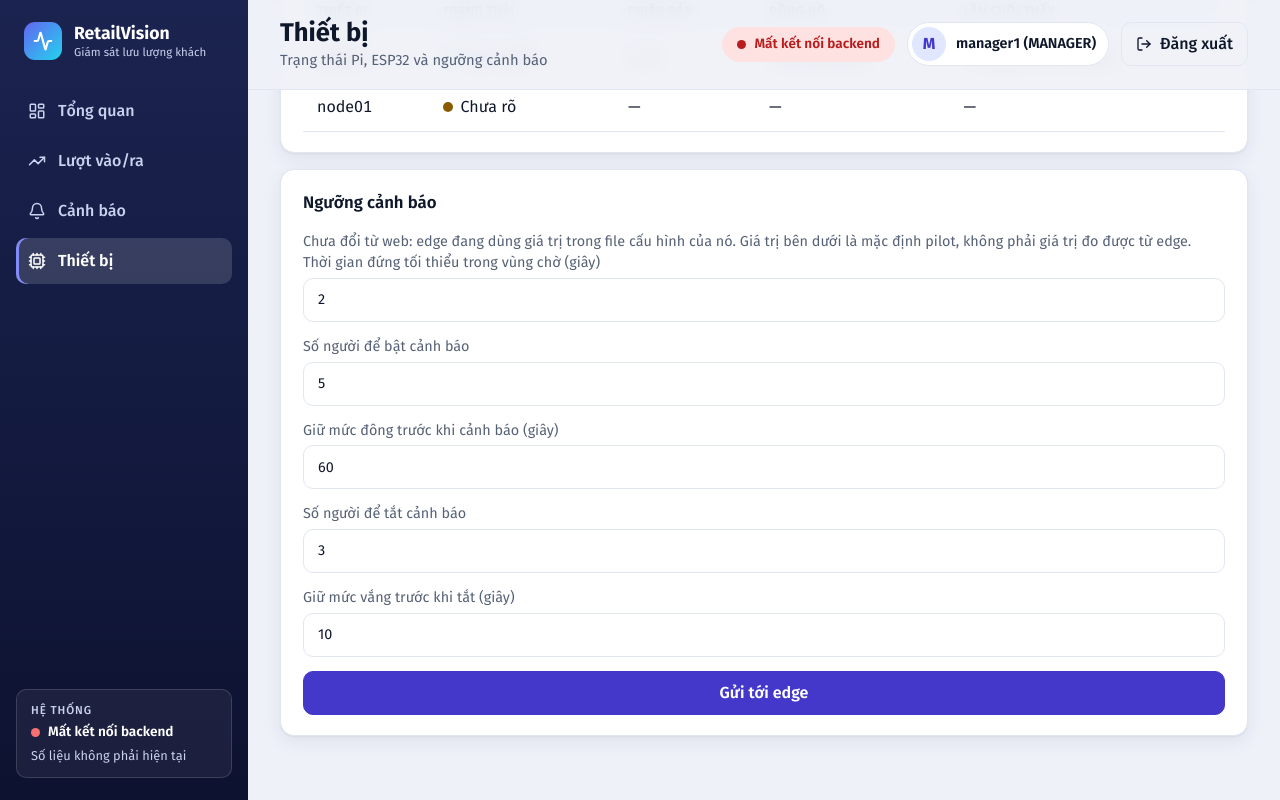
Scenario: trang Thiết bị và đổi ngưỡng › backend từ chối (409): hiện đúng thông báo của backend
(page scrolled)
Expected: the text with test id "settings-source" is shown, top-left (303, 231), bottom-right (1225, 252)
Click the button "Gửi tới edge".
click(764, 692)  # box top-left (303, 670), bottom-right (1225, 714)
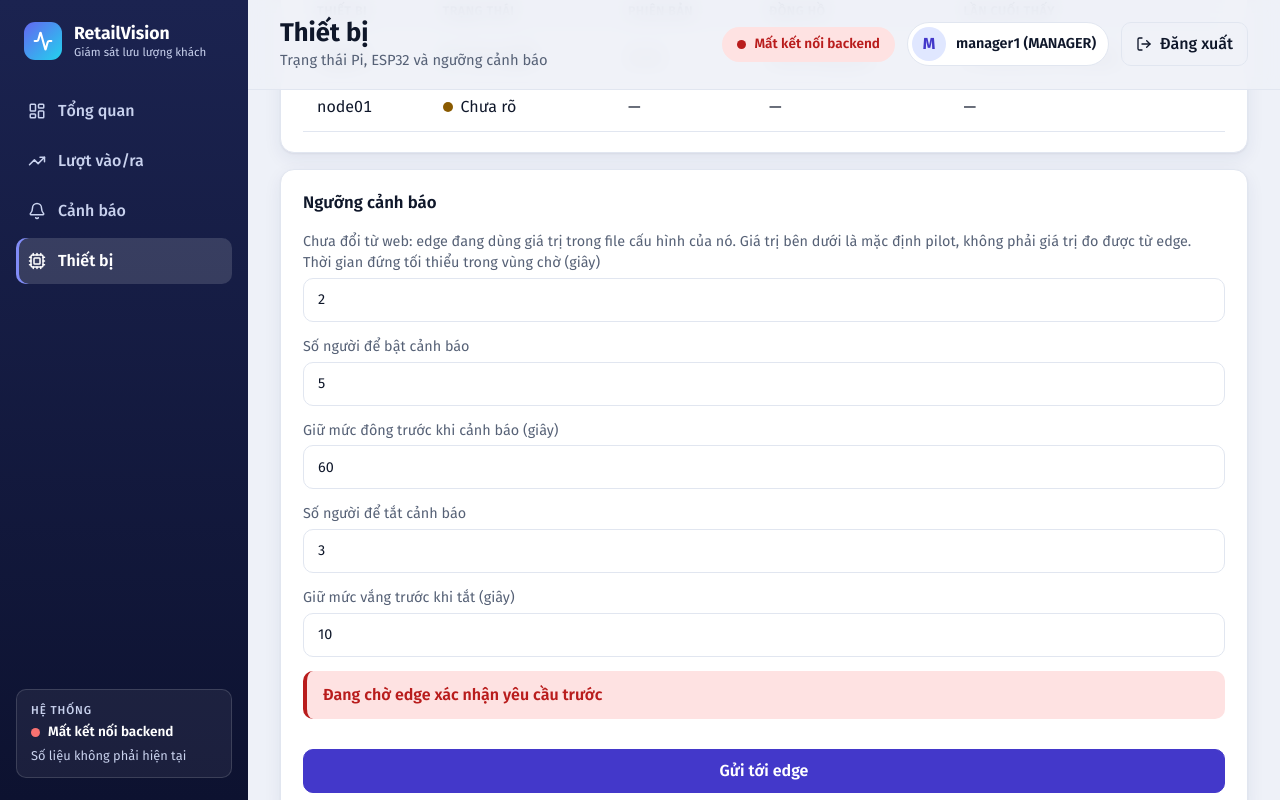
Expected: the text "Đang chờ edge xác nhận yêu cầu trước" is shown, top-left (303, 670), bottom-right (1225, 718)
